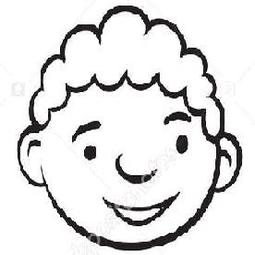ear: (10, 127, 47, 189), (215, 132, 248, 196)
eyebrow: (69, 117, 100, 146), (159, 112, 194, 125)
nose: (108, 144, 161, 184)
open_mouth: (97, 189, 186, 228)
small_eye: (172, 129, 194, 163), (79, 138, 100, 164)
